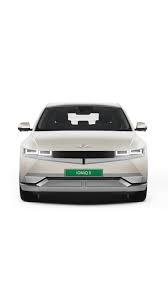Honda Ioniq: (12, 100, 153, 214)
